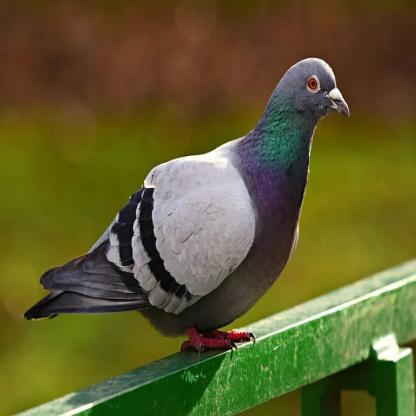Rock Pigeon: (24, 54, 357, 339)
